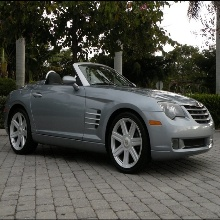no damage: (3, 61, 215, 174)
